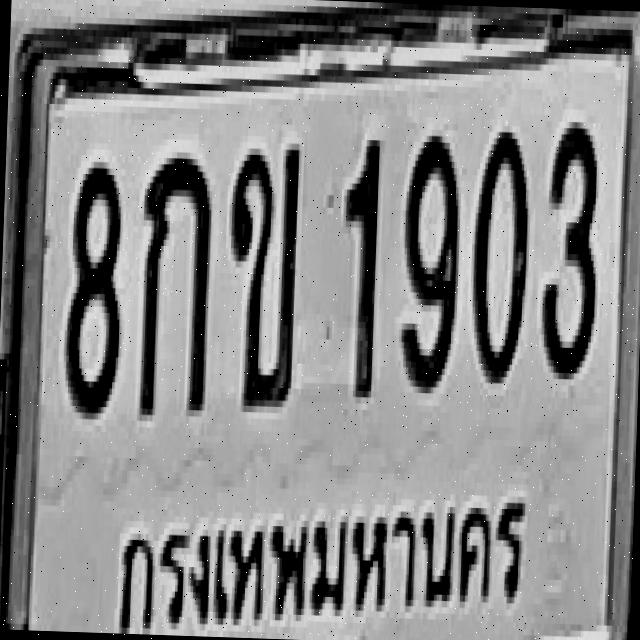0: (467, 124, 530, 383)
1: (337, 132, 380, 398)
10GorGai: (135, 150, 212, 417)
11KhorKhai: (222, 141, 302, 407)
3: (538, 118, 602, 376)
8: (62, 160, 125, 414)
9: (398, 129, 462, 394)
Bangkok: (108, 477, 538, 640)
